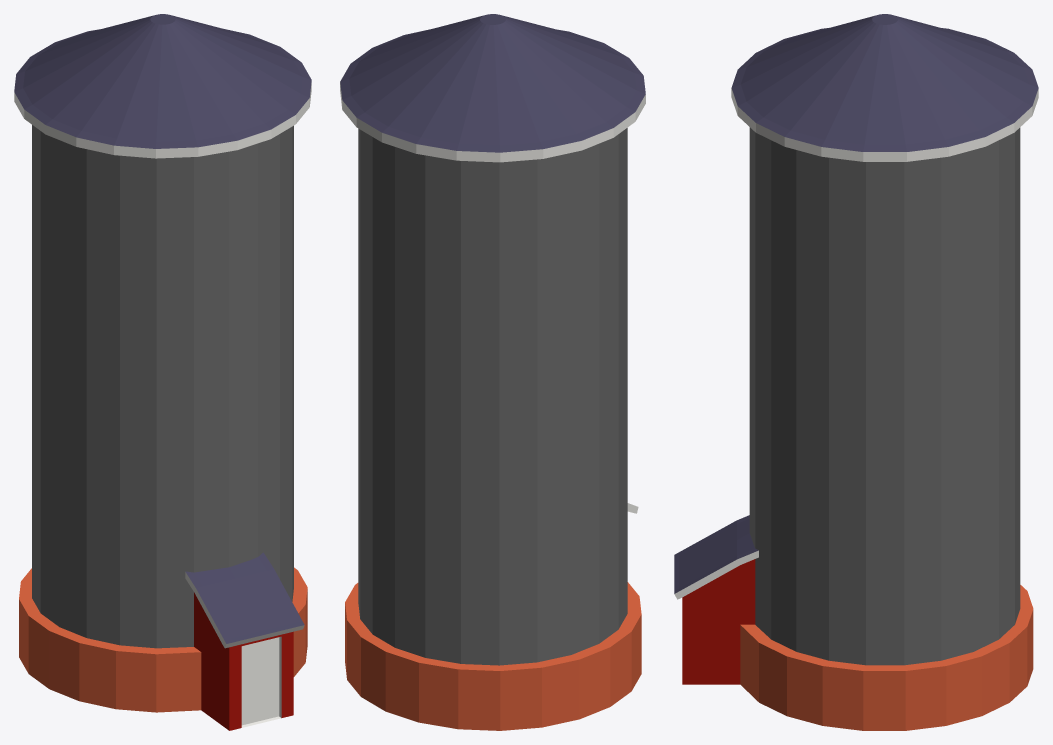
The model's file is Farmi_Silo.fbx.
3 views of the same model, side by side, from view 1: azimuth 30°, elevation 25°; view 2: azimuth 150°, elevation 25°; view 3: azimuth 270°, elevation 25° (orthographic). The views are drawn at different scales.
Visible parts, largest first — view 1: Siilo; view 2: Siilo; view 3: Siilo.
Boxes of the visible parts, <box> form: Siilo: <box>14,14,311,730</box>; Siilo: <box>340,14,645,730</box>; Siilo: <box>674,14,1038,730</box>.
Bounding box in the file's own units: 632 × 1488 × 757.
